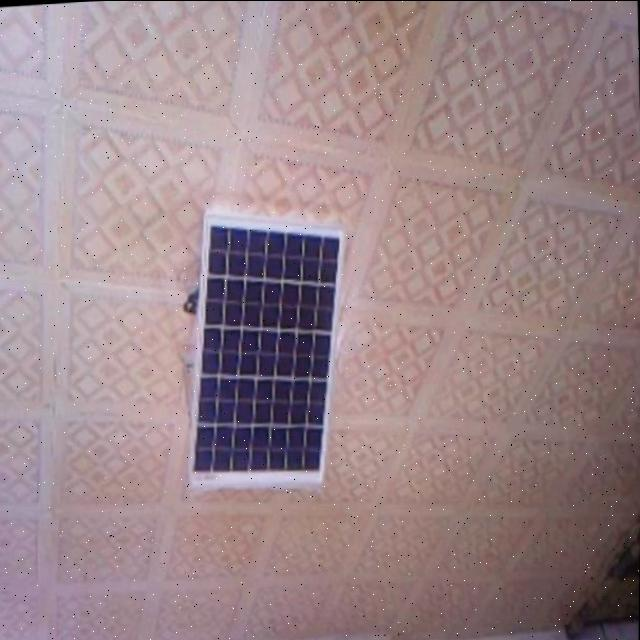Normal Solar Panel: (180, 207, 352, 489)
